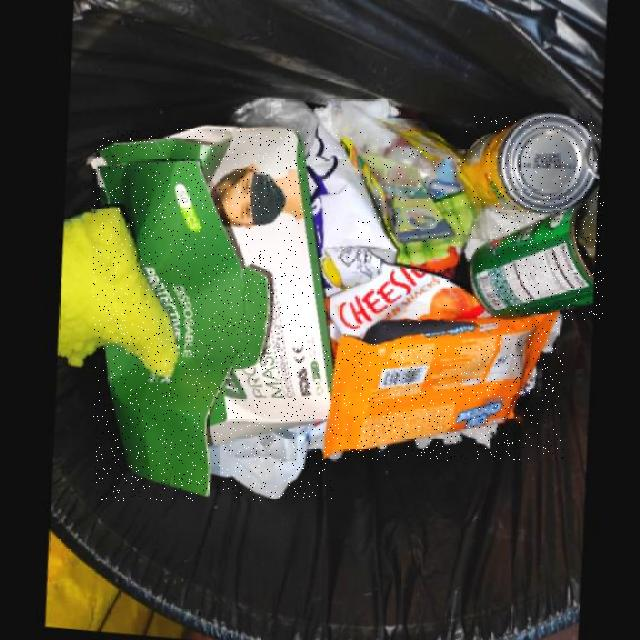metal: (473, 191, 604, 322), (474, 116, 599, 217)
paper: (93, 128, 334, 500)
wrapper: (312, 126, 495, 343), (327, 314, 564, 460), (359, 147, 461, 242)
